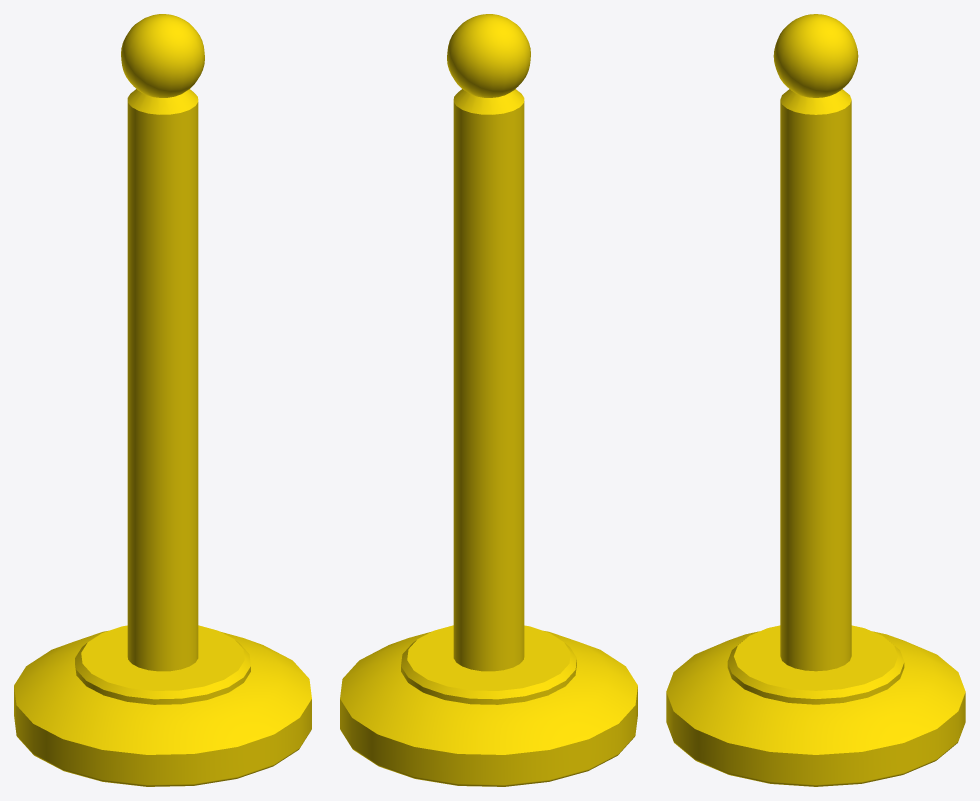
Rendered from pole.fbx.
The picture shows the model from 3 angles, left to right: view 1: azimuth 30°, elevation 25°; view 2: azimuth 150°, elevation 25°; view 3: azimuth 270°, elevation 25°; orthographic projection.
Visible parts, largest first — view 1: pCylinder56, pSphere2; view 2: pCylinder56, pSphere2; view 3: pCylinder56, pSphere2.
Part boxes in pixels (x1,y1,x2,y2): pCylinder56: [14, 89, 311, 786]; pSphere2: [121, 14, 204, 97]; pCylinder56: [340, 89, 637, 786]; pSphere2: [447, 14, 530, 97]; pCylinder56: [666, 89, 965, 786]; pSphere2: [773, 14, 858, 97].
Size of the model in its own units: 45.94 by 120 by 45.94.
